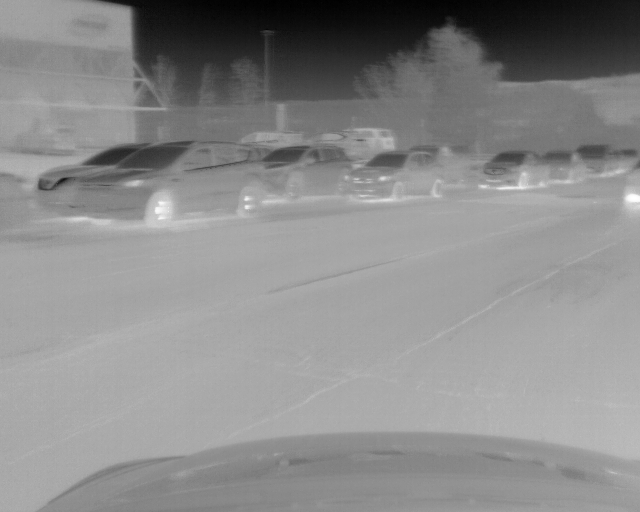car: (79, 141, 265, 218), (34, 144, 143, 213), (350, 148, 442, 201), (266, 144, 352, 198), (482, 151, 548, 192), (548, 147, 584, 184), (240, 131, 303, 148), (581, 145, 614, 177), (349, 128, 394, 151)
